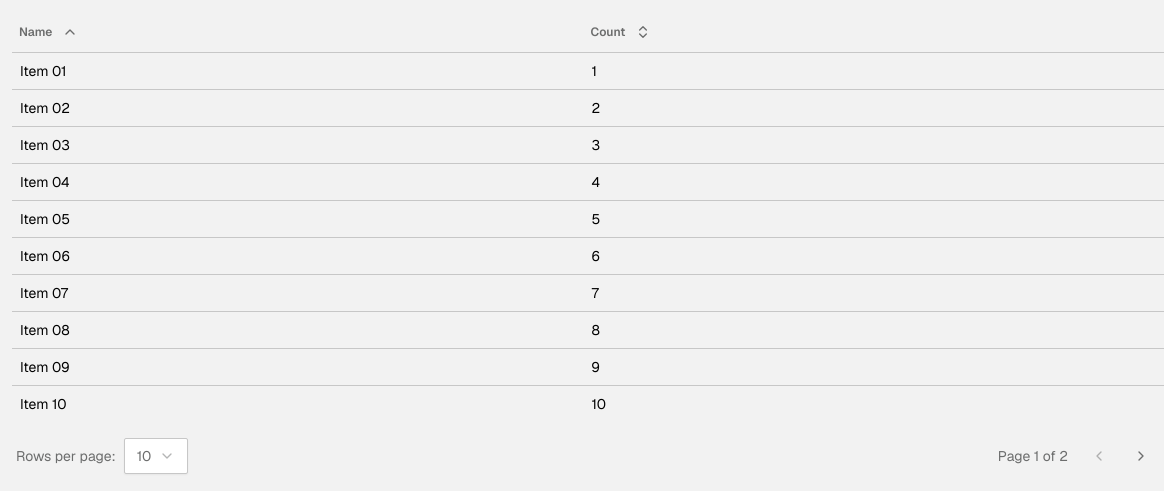
next button navigates to next page
Click the button named "next page": [1141, 456] box 1122,440 -> 1160,472
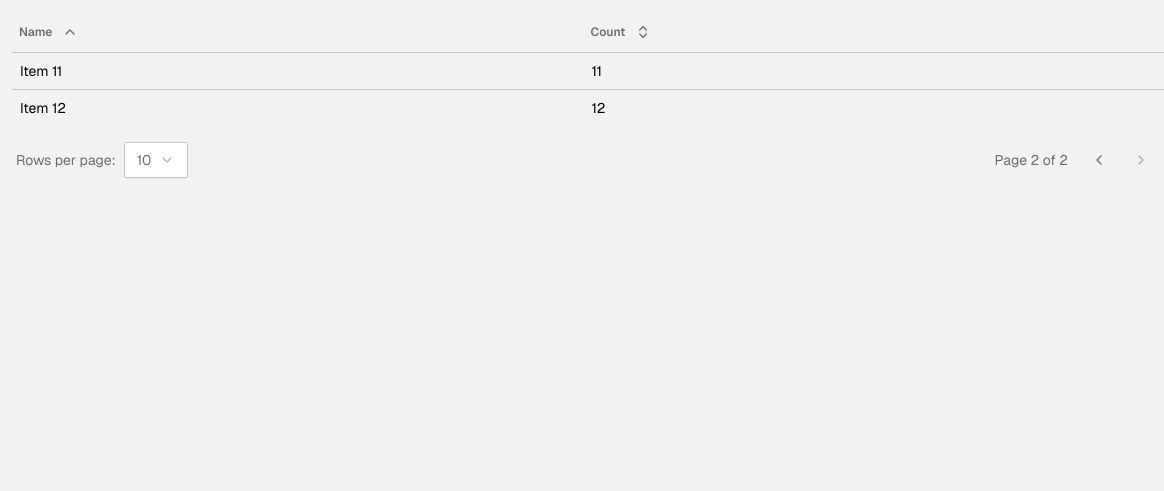
Result: the text "Page 2 of 2" is shown at 995,150 -> 1068,170
